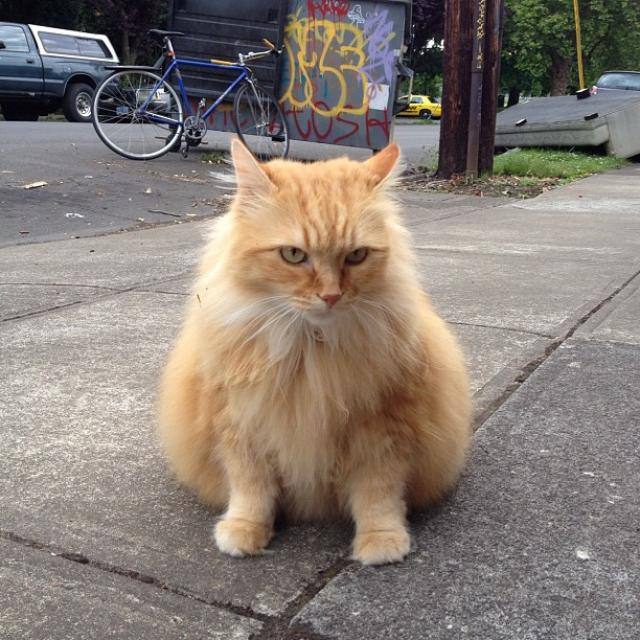cats: (130, 136, 483, 571)
